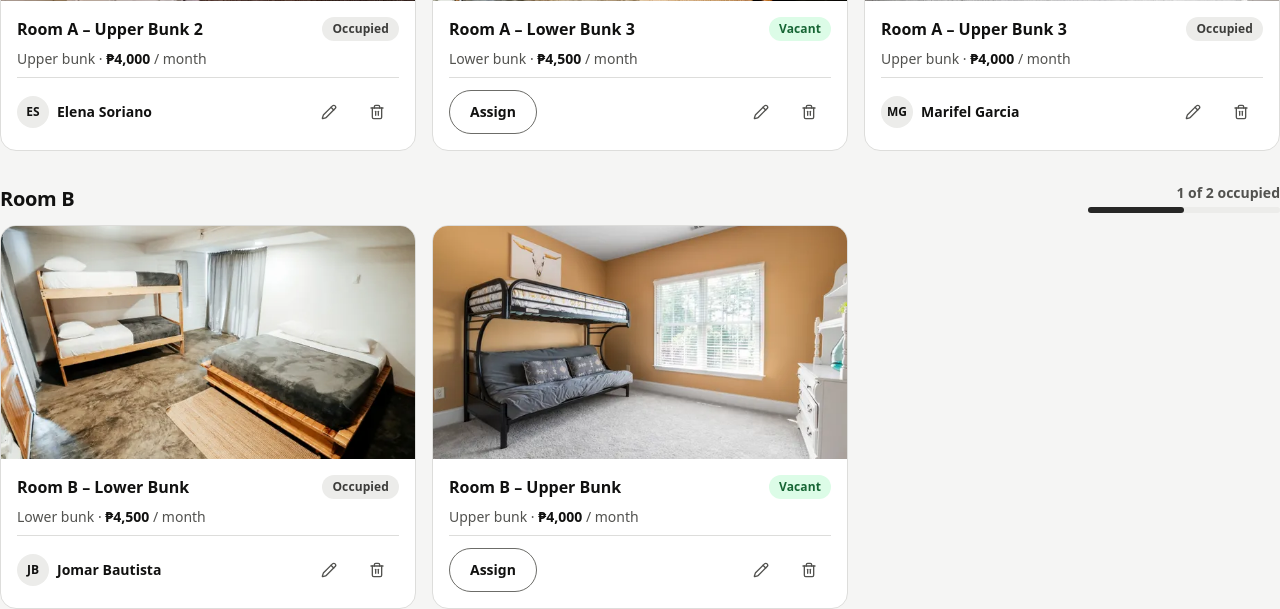
Test: AdminBedsPage — Assign picker (renters without a bed) › lists only renters without a bed (status and money shown), then "Add new renter"
(page scrolled)
Click the button with aria-label "Assign a renter to Room B – Upper Bunk" at (493, 570), box [449,548,537,592]
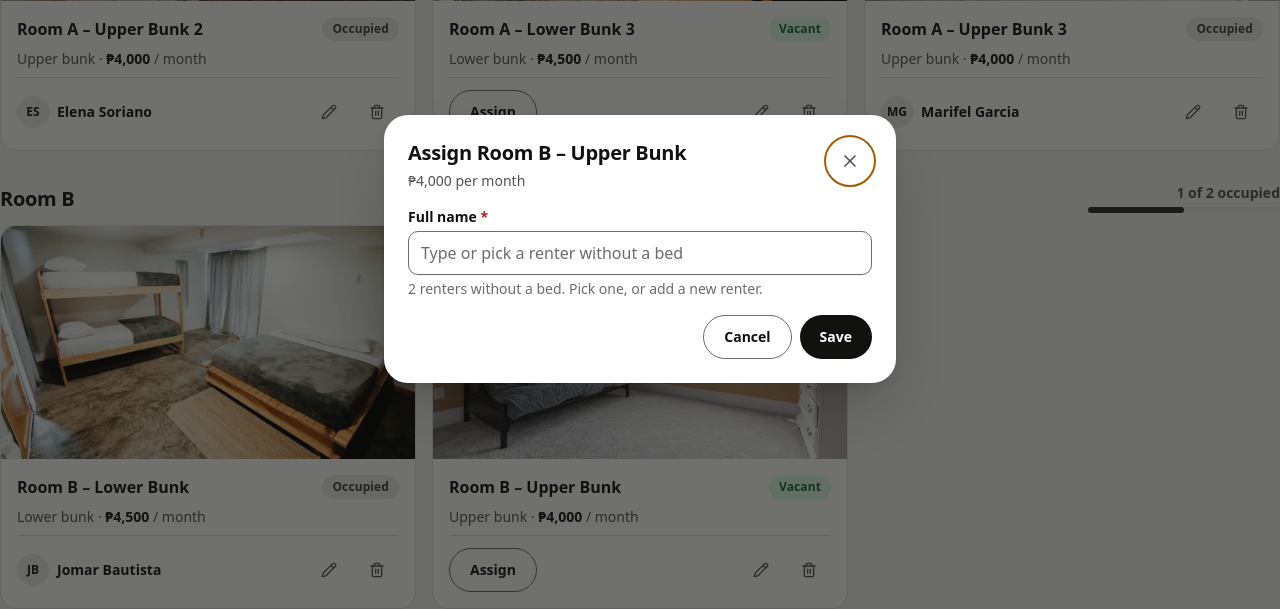
Click the dropdown labelled "Full name *" at (640, 253), box [408,231,872,275]
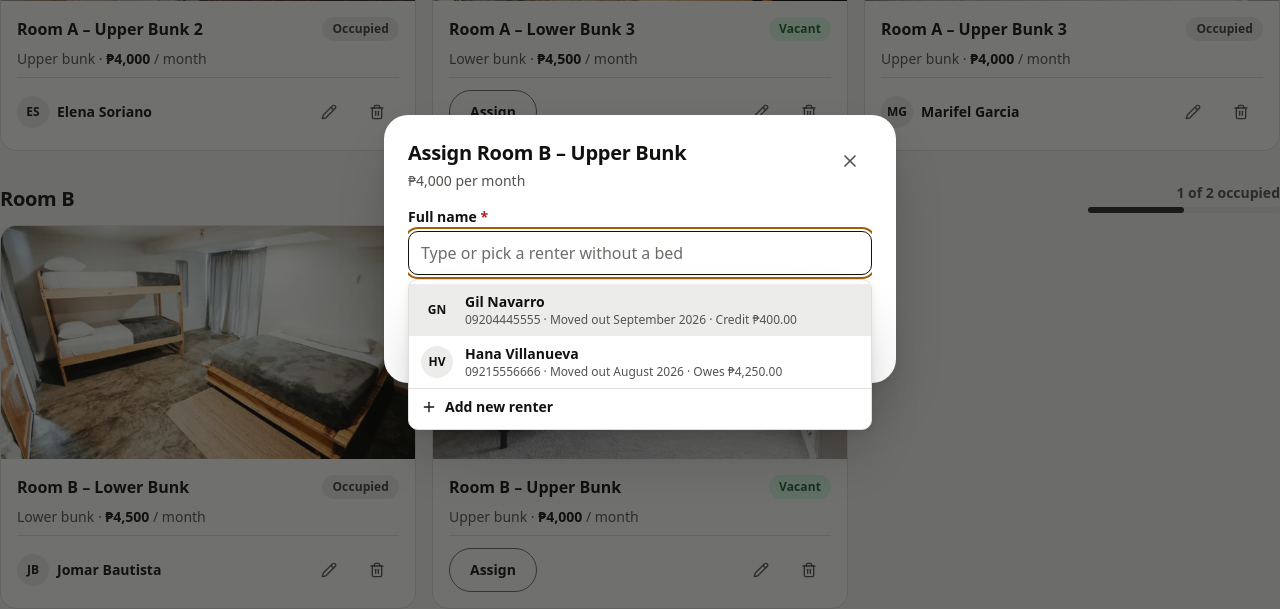
Expected: the dialog "Assign Room B – Upper Bunk" shows "₱4,000 per month", [408,171,525,190]
Expected: the number of options is 3, [409,284,871,336]; [421,344,782,380]; [409,388,871,425]
Expected: the option that starts with "Gil Navarro" is shown, [409,284,871,336]
